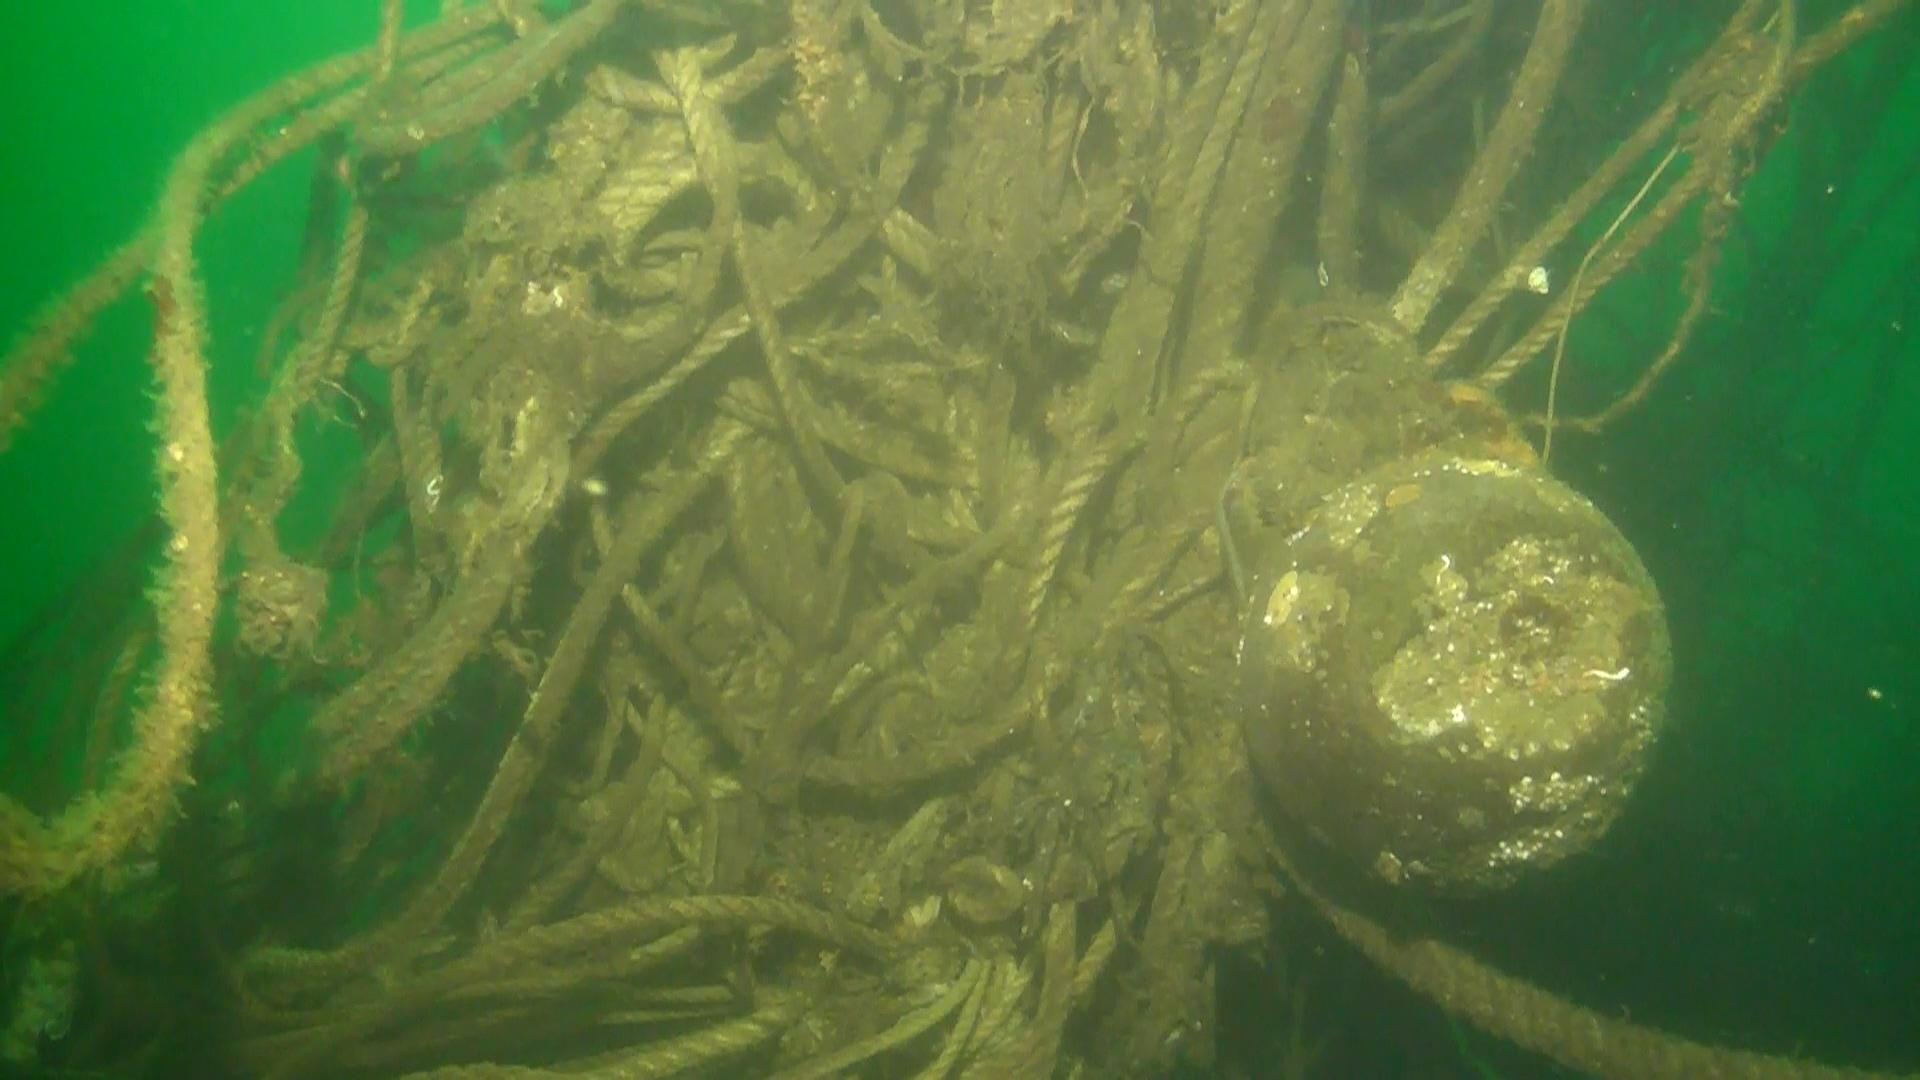bundle of ropes: (0, 1, 1915, 1080)
